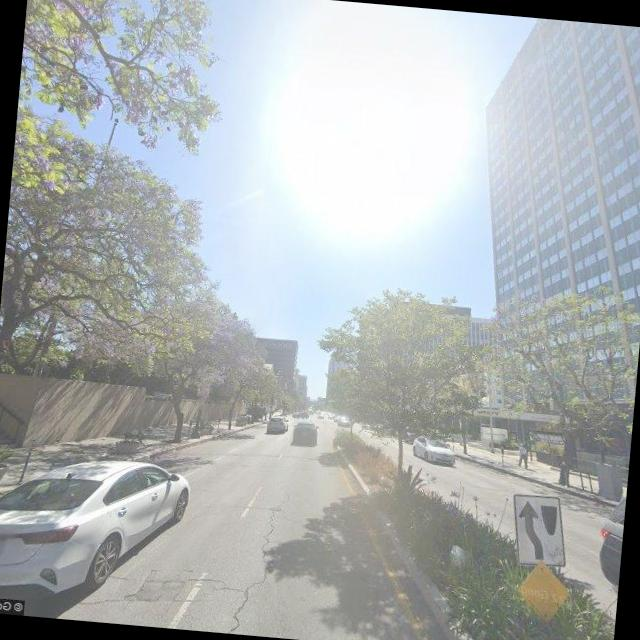pothole: (216, 489, 288, 636)
